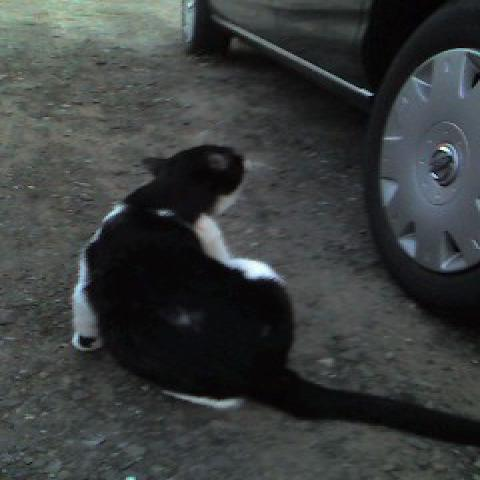car: (176, 1, 478, 332)
